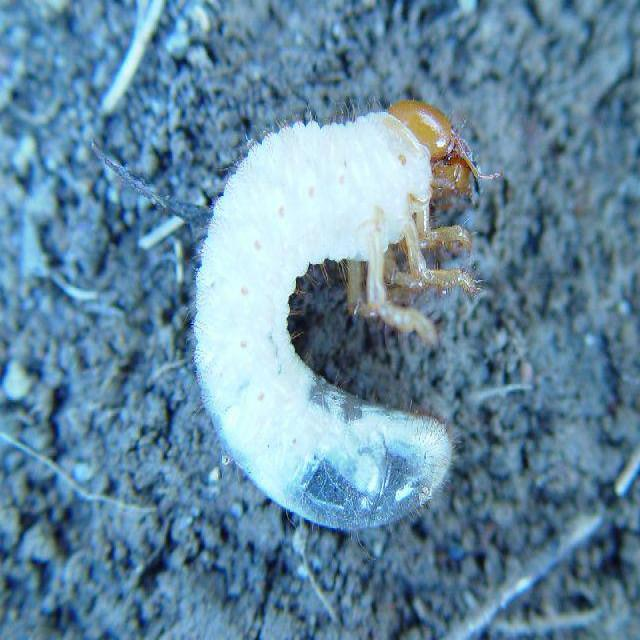Grub-Adult-: (182, 81, 500, 531)
